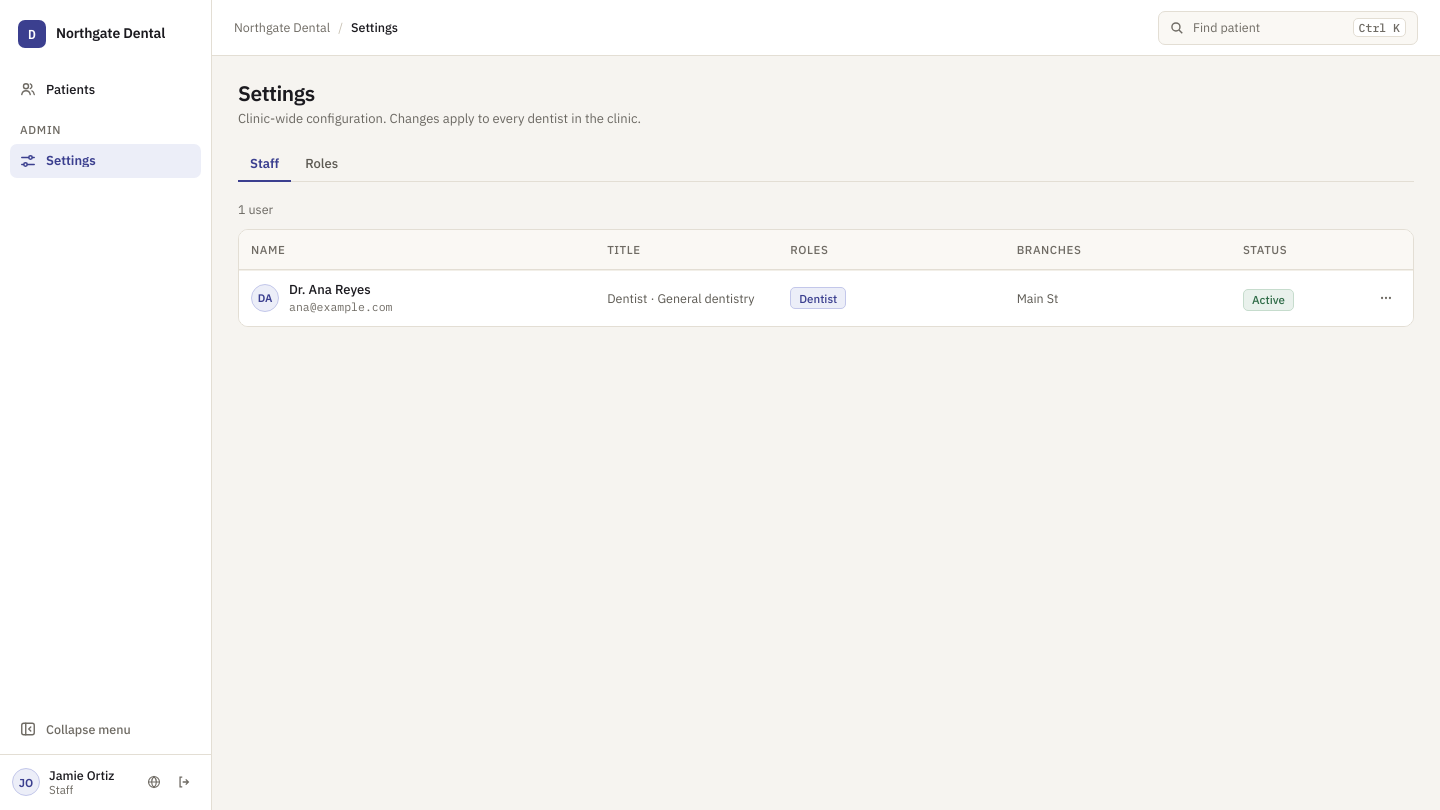
Scenario: Settings (ADR-0055) › lets someone who edits roles but not staff reach a person’s access from the row
The width and height of the screenshot is (1440, 810).
What coordinates should you click on to do the following:
click the row "Dr. Ana Reyes"
I would click on:
 (826, 298)
Its box is [239,270,1413,326].
(page scrolled)
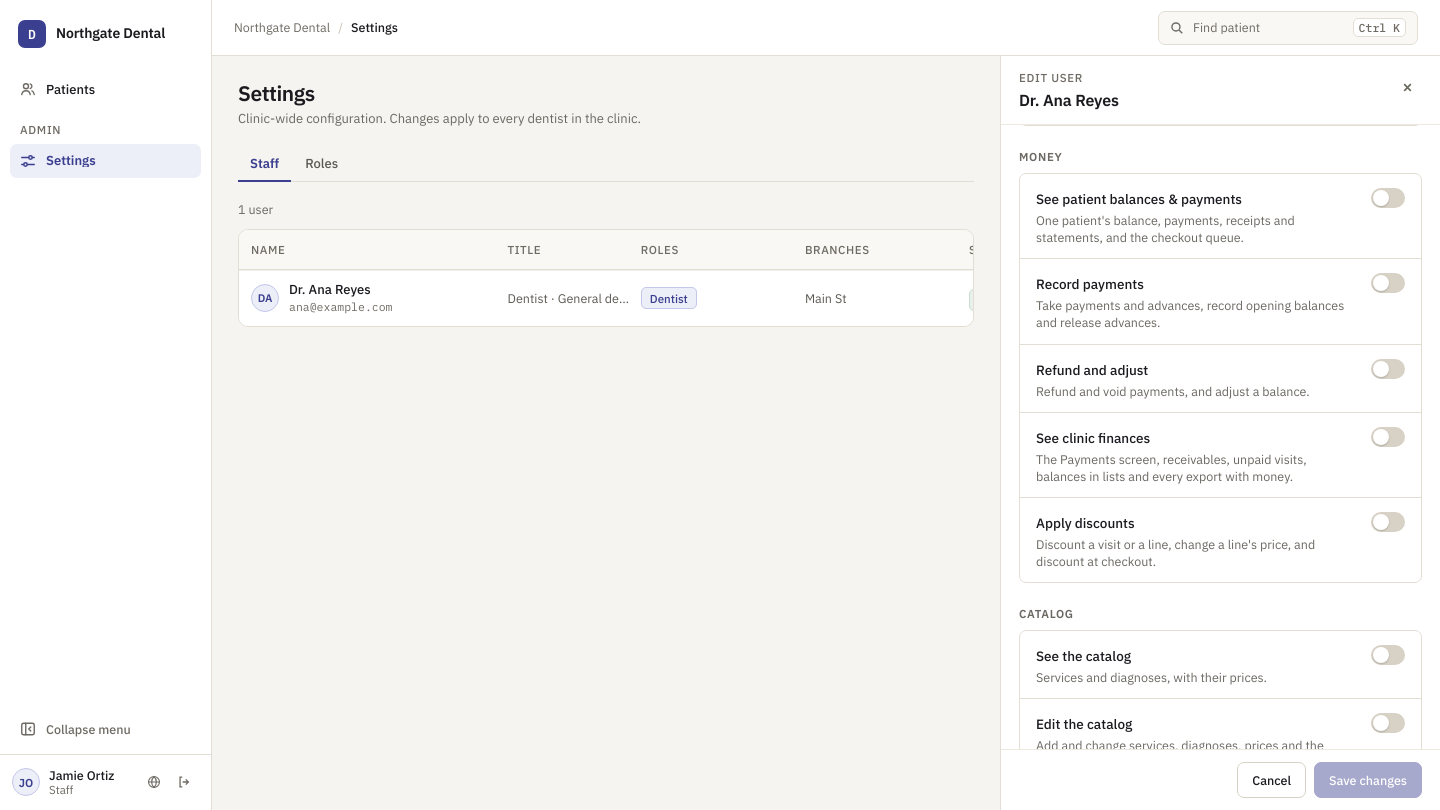
Now the switch named "See clinic finances" is enabled, box [1371,427,1405,447]
